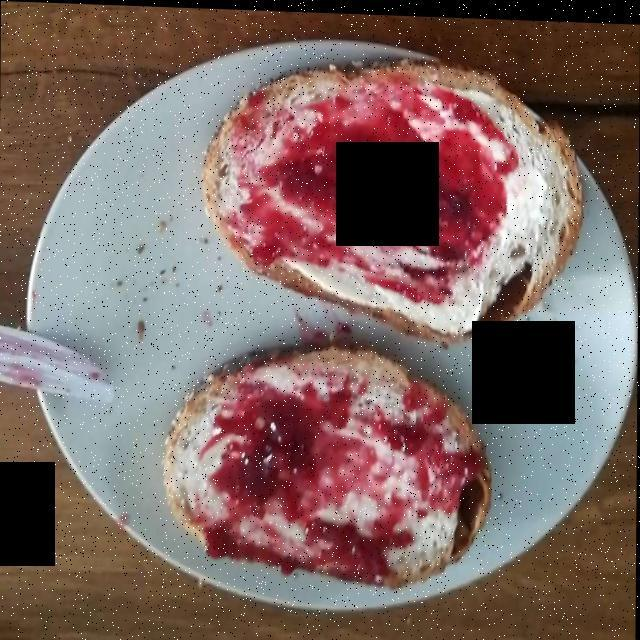bread: (159, 45, 586, 599)
butter: (190, 92, 546, 576)
jam: (192, 67, 504, 588)
